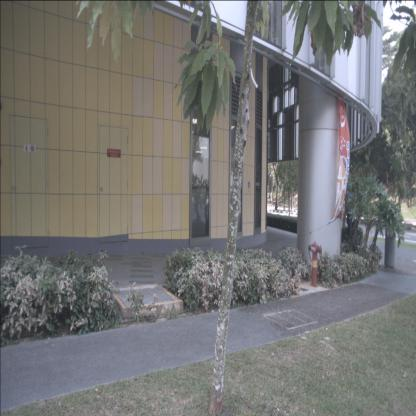human-pedestrian-adult: (346, 183, 358, 250)
